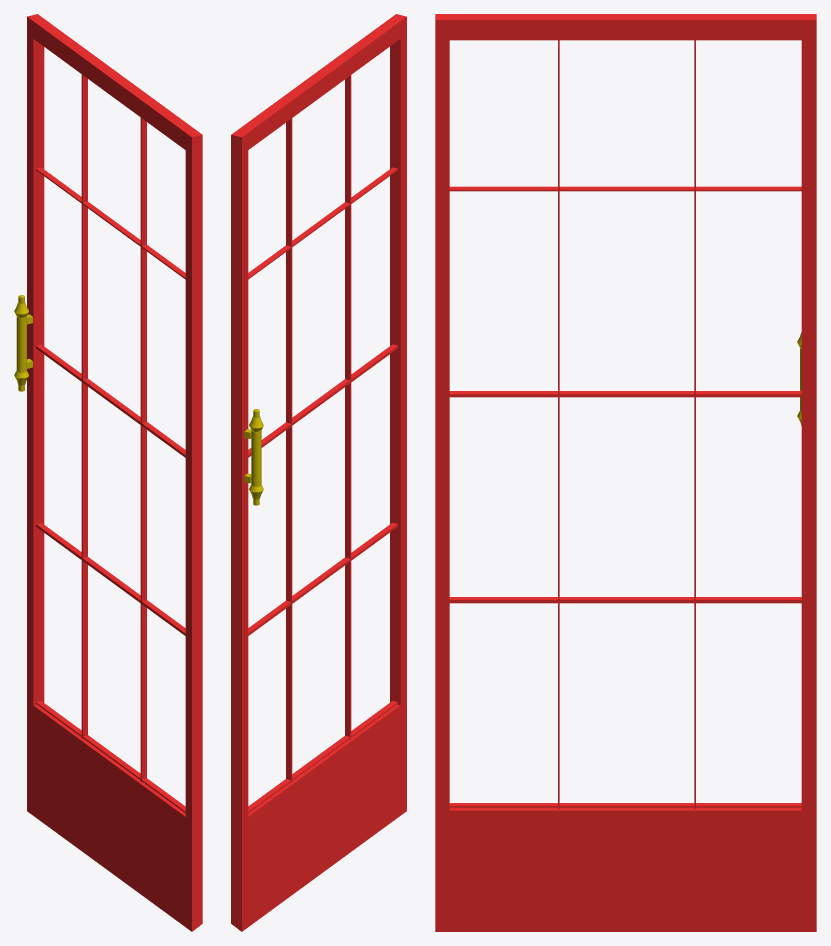
The model's file is CabinaPFPuerta.obj.
The picture shows the model from 3 angles, left to right: view 1: azimuth 30°, elevation 25°; view 2: azimuth 150°, elevation 25°; view 3: azimuth 270°, elevation 25°; orthographic projection. The views are drawn at different scales.
Parts seen in each view (by area): view 1: CabinaPFPuerta:polySurface332; view 2: CabinaPFPuerta:polySurface332; view 3: CabinaPFPuerta:polySurface332.
Part boxes in pixels (left/top/right/bottom): CabinaPFPuerta:polySurface332: left=14, top=14, right=202, bottom=931; CabinaPFPuerta:polySurface332: left=231, top=14, right=406, bottom=931; CabinaPFPuerta:polySurface332: left=435, top=14, right=816, bottom=931.
Size of the model in its own units: 0.037 by 1.04 by 0.3914.
3 materials, 3 textured.
